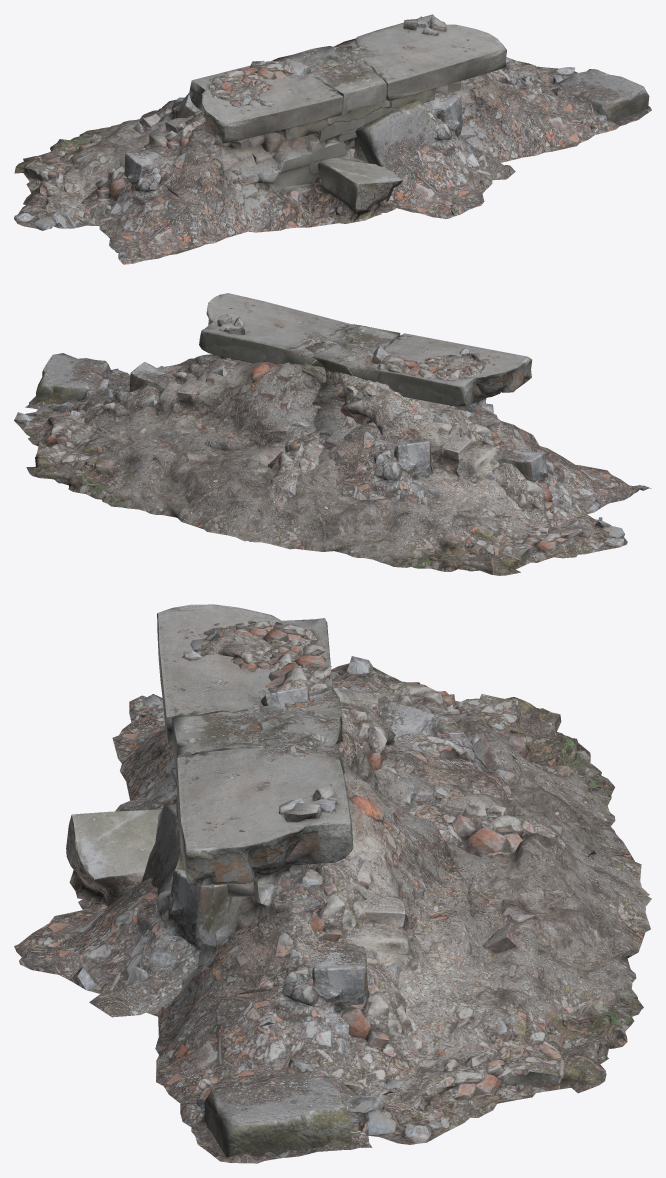
File: sm_Stairs_01_03.fbx
The picture shows the model from 3 angles, top to bottom: view 1: azimuth 30°, elevation 25°; view 2: azimuth 150°, elevation 25°; view 3: azimuth 270°, elevation 25°; orthographic projection. The views are drawn at different scales.
Parts seen in each view (by area): view 1: sm_Stairs_01_03_LOD0; view 2: sm_Stairs_01_03_LOD0; view 3: sm_Stairs_01_03_LOD0.
Part boxes in pixels (x1,y1,x2,y2): sm_Stairs_01_03_LOD0: [14, 14, 651, 264]; sm_Stairs_01_03_LOD0: [14, 293, 651, 575]; sm_Stairs_01_03_LOD0: [14, 604, 651, 1163].
Bounding box in the file's own units: 592 × 323 × 113.
